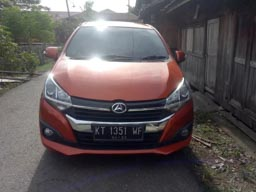plat: (94, 123, 143, 135)
